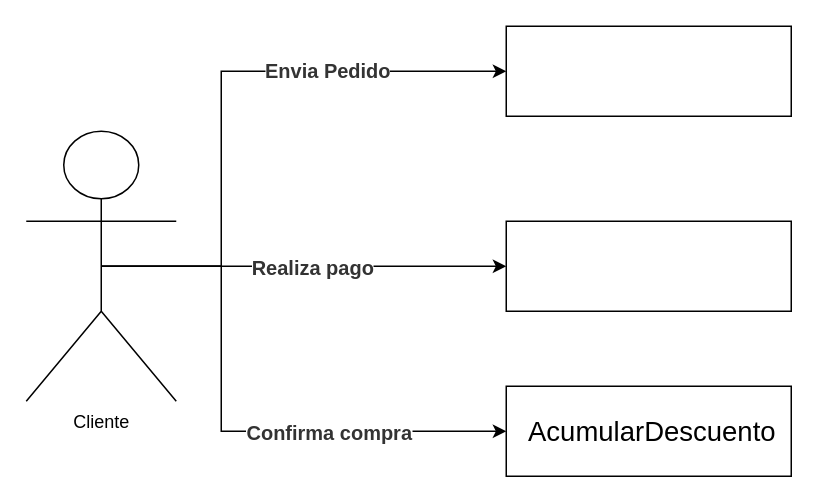
Some shapes in this 818 by 503 pixel diagram are drawn without their labels. The centre of each missing label's shape, as x and y in pixels:
CobrarPedido: the point at 648,265
RegistrarPedido: the point at 648,70
